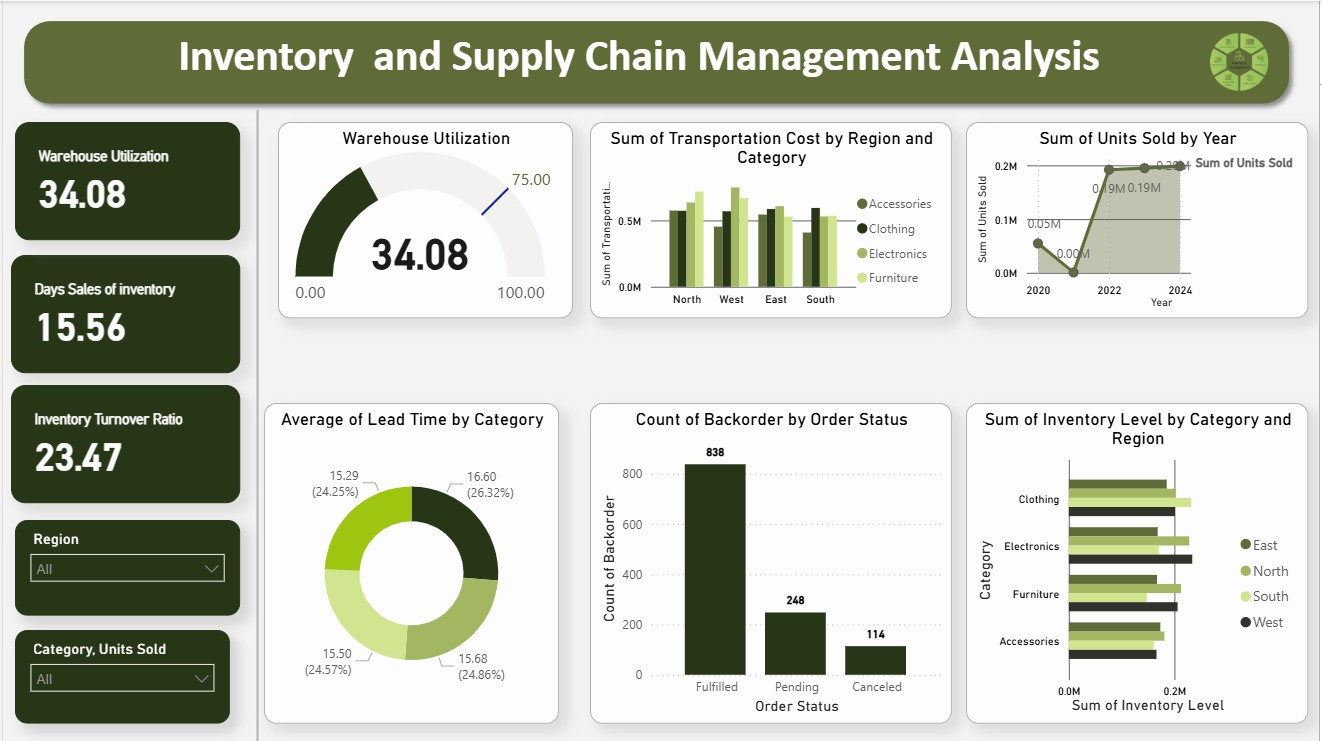

The dashboard page shown, as its layout file describes it:
{"tool":"powerbi","page":{"name":"Page 1","canvas":[1280,720],"ordinal":0},"visuals":[{"type":"shape","box":[11.7,10.6,1248.1,98],"z":0},{"type":"textbox","box":[162.9,21.3,920.1,70.3],"z":1000},{"type":"image","box":[1144.8,13.8,115,91.6],"z":2000},{"type":"shape","box":[241,105.8,12.7,614.5],"z":3000},{"type":"cardVisual","fields":{"Data":["Inventory and Supply Chain Dataset.Days Sales of inventory"]},"box":[7.6,247.3,223.1,114.7],"z":4000},{"type":"cardVisual","fields":{"Data":["Inventory and Supply Chain Dataset.Inventory Turnover Ratio"]},"box":[7.6,373.5,223.1,114.7],"z":5000},{"type":"cardVisual","fields":{"Data":["Inventory and Supply Chain Dataset.Warehouse Utilization"]},"box":[11.5,117.3,219.3,114.7],"z":6000},{"type":"slicer","fields":{"Values":["Inventory and Supply Chain Dataset.Region"]},"box":[11.7,504.8,218.8,93.4],"z":7000},{"type":"slicer","fields":{"Values":["Inventory and Supply Chain Dataset.Category","Inventory and Supply Chain Dataset.Units Sold"]},"box":[11.7,611.8,209.1,91.4],"z":8000},{"type":"gauge","fields":{"Y":["Inventory and Supply Chain Dataset.Warehouse Utilization"]},"box":[267.7,117.3,286.9,191.2],"z":9000},{"type":"clusteredColumnChart","fields":{"Y":["Sum(Inventory and Supply Chain Dataset.Transportation Cost)"],"Category":["Inventory and Supply Chain Dataset.Region"],"Series":["Inventory and Supply Chain Dataset.Category"]},"box":[571.2,117.3,351.9,191.2],"z":10000},{"type":"lineChart","fields":{"Category":["Inventory and Supply Chain Dataset.Date.Variation.Date Hierarchy.Year"],"Y":["Sum(Inventory and Supply Chain Dataset.Units Sold)"]},"box":[937.1,117.3,332.7,191.2],"z":11000},{"type":"donutChart","fields":{"Y":["Avg(Inventory and Supply Chain Dataset.Lead Time)"],"Category":["Inventory and Supply Chain Dataset.Category"]},"box":[253.7,391.4,286.9,312.4],"z":12000},{"type":"columnChart","fields":{"Y":["CountNonNull(Inventory and Supply Chain Dataset.Backorder)"],"Category":["Inventory and Supply Chain Dataset.Order Status"]},"box":[571.2,391.4,351.9,312.4],"z":13000},{"type":"clusteredBarChart","fields":{"Y":["Sum(Inventory and Supply Chain Dataset.Inventory Level)"],"Category":["Inventory and Supply Chain Dataset.Category"],"Series":["Inventory and Supply Chain Dataset.Region"]},"box":[937,391,333,312],"z":14000}]}

Visuals, with their boxes in screenshot pixels (x1, y1, x2, y2), scaled from the page's 1280x720 canvas onto the 1322x741 screenshot:
shape: [left=12, top=11, right=1301, bottom=112]
textbox: [left=168, top=22, right=1119, bottom=94]
image: [left=1182, top=14, right=1301, bottom=108]
shape: [left=249, top=109, right=262, bottom=740]
cardVisual - Inventory and Supply Chain Dataset.Days Sales of inventory: [left=8, top=255, right=238, bottom=373]
cardVisual - Inventory and Supply Chain Dataset.Inventory Turnover Ratio: [left=8, top=384, right=238, bottom=502]
cardVisual - Inventory and Supply Chain Dataset.Warehouse Utilization: [left=12, top=121, right=238, bottom=239]
slicer - Inventory and Supply Chain Dataset.Region: [left=12, top=520, right=238, bottom=616]
slicer - Inventory and Supply Chain Dataset.Category x Inventory and Supply Chain Dataset.Units Sold: [left=12, top=630, right=228, bottom=724]
gauge - Inventory and Supply Chain Dataset.Warehouse Utilization: [left=276, top=121, right=573, bottom=317]
clusteredColumnChart - Sum(Inventory and Supply Chain Dataset.Transportation Cost) x Inventory and Supply Chain Dataset.Region: [left=590, top=121, right=953, bottom=317]
lineChart - Inventory and Supply Chain Dataset.Date.Variation.Date Hierarchy.Year x Sum(Inventory and Supply Chain Dataset.Units Sold): [left=968, top=121, right=1311, bottom=317]
donutChart - Avg(Inventory and Supply Chain Dataset.Lead Time) x Inventory and Supply Chain Dataset.Category: [left=262, top=403, right=558, bottom=724]
columnChart - CountNonNull(Inventory and Supply Chain Dataset.Backorder) x Inventory and Supply Chain Dataset.Order Status: [left=590, top=403, right=953, bottom=724]
clusteredBarChart - Sum(Inventory and Supply Chain Dataset.Inventory Level) x Inventory and Supply Chain Dataset.Category: [left=968, top=402, right=1312, bottom=724]
